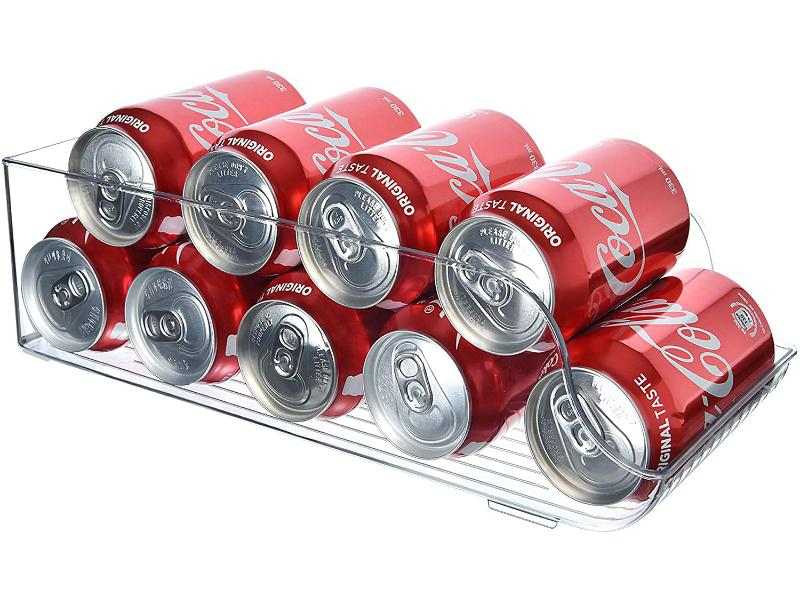can: (518, 255, 784, 519), (426, 134, 698, 357), (287, 104, 546, 310), (181, 80, 424, 219), (58, 63, 313, 189), (360, 308, 497, 470), (228, 280, 355, 434), (122, 259, 219, 405), (19, 220, 108, 369)
